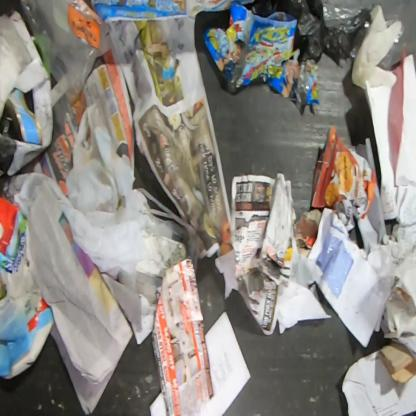cardboard: (341, 341, 416, 416), (0, 78, 54, 178), (0, 195, 29, 276)
soft_plastic: (62, 97, 156, 274), (200, 1, 321, 117), (17, 0, 112, 106), (242, 0, 373, 67), (310, 124, 376, 232), (350, 4, 402, 90)
